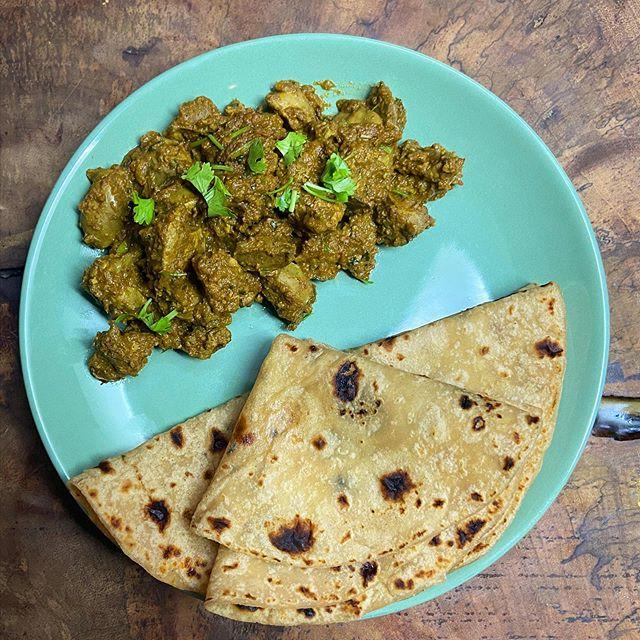Roti: (90, 316, 574, 596)
